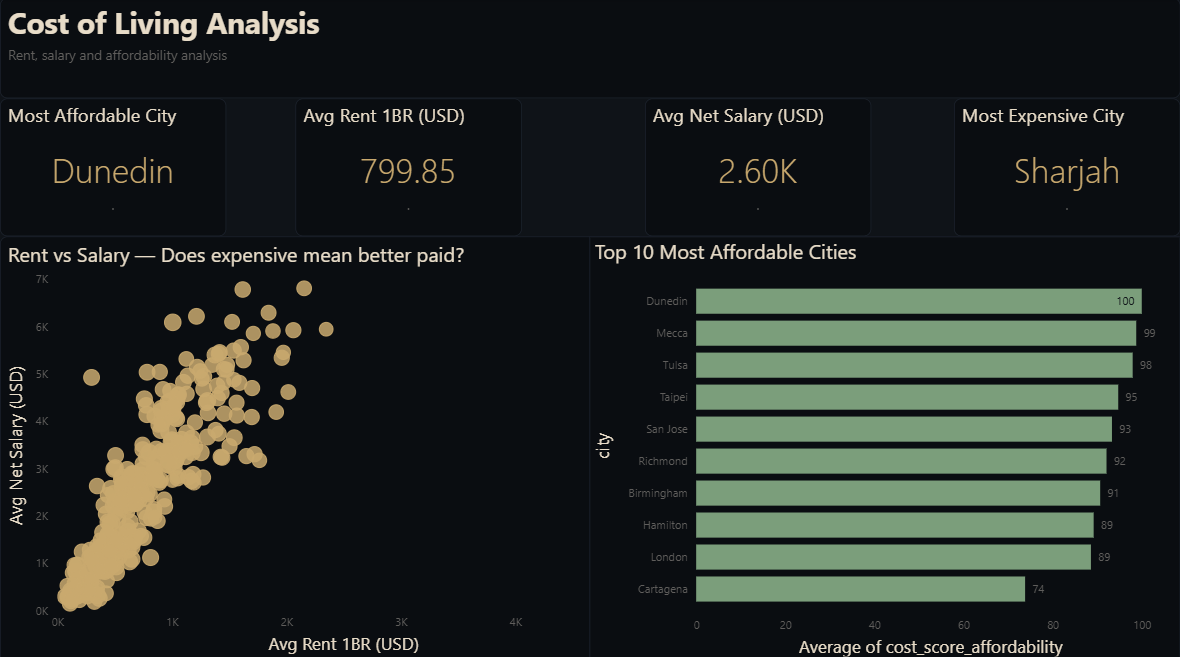

The dashboard page shown, as its layout file describes it:
{"tool":"powerbi","page":{"name":"Cost Of Living","canvas":[1280,720],"ordinal":2},"visuals":[{"type":"card","title":"Most Affordable City","fields":{"Values":["daedalus_scored (2).Most Affordable"]},"box":[0,109,245.6,149.6],"z":0},{"type":"card","title":"Avg Rent 1BR (USD)","fields":{"Values":["Avg(daedalus_scored (2).rent_1br_outside_usd)"]},"box":[320.4,109,245.6,149.6],"z":1000},{"type":"card","title":"Avg Net Salary (USD)","fields":{"Values":["Avg(daedalus_scored (2).avg_net_salary_usd)"]},"box":[699.4,109,245.6,149.6],"z":2000},{"type":"card","title":"Most Expensive City","fields":{"Values":["daedalus_scored (2).Most Expensive"]},"box":[1034.5,109,245.6,149.6],"z":3000},{"type":"scatterChart","title":"Rent vs Salary — Does expensive mean better paid?","fields":{"X":["Avg(daedalus_scored (2).rent_1br_outside_usd)"],"Y":["Avg(daedalus_scored (2).avg_net_salary_usd)"],"Category":["daedalus_scored (2).city"],"Size":["Avg(daedalus_scored (2).livability_score_absolute)"]},"box":[0,258.6,699.4,461.9],"z":4000},{"type":"clusteredBarChart","title":"Top 10 Most Affordable Cities","fields":{"Category":["daedalus_scored (2).city"],"Y":["Avg(daedalus_scored (2).cost_score_affordability)"]},"box":[639.2,258.6,640.9,461.9],"z":5000},{"type":"textbox","title":"Cost of Living Analysis","box":[0,0,1280.1,109],"z":6000}]}

Visuals, with their boxes in screenshot pixels (x1, y1, x2, y2), scaled from the page's 1280x720 canvas onto the 1180x657 screenshot:
"Most Affordable City" card: region(0, 99, 226, 236)
"Avg Rent 1BR (USD)" card: region(295, 99, 522, 236)
"Avg Net Salary (USD)" card: region(645, 99, 871, 236)
"Most Expensive City" card: region(954, 99, 1179, 236)
"Rent vs Salary — Does expensive mean better paid?" scatterChart: region(0, 236, 645, 656)
"Top 10 Most Affordable Cities" clusteredBarChart: region(589, 236, 1179, 656)
"Cost of Living Analysis" textbox: region(0, 0, 1179, 99)
